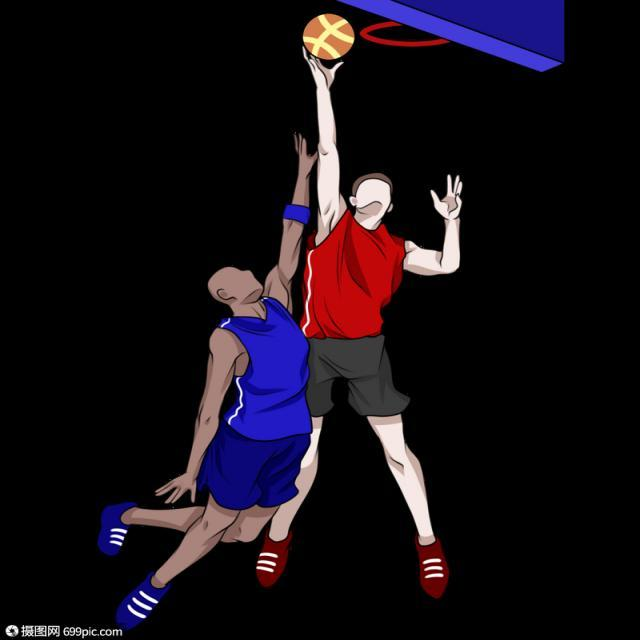rim: (299, 11, 357, 58)
